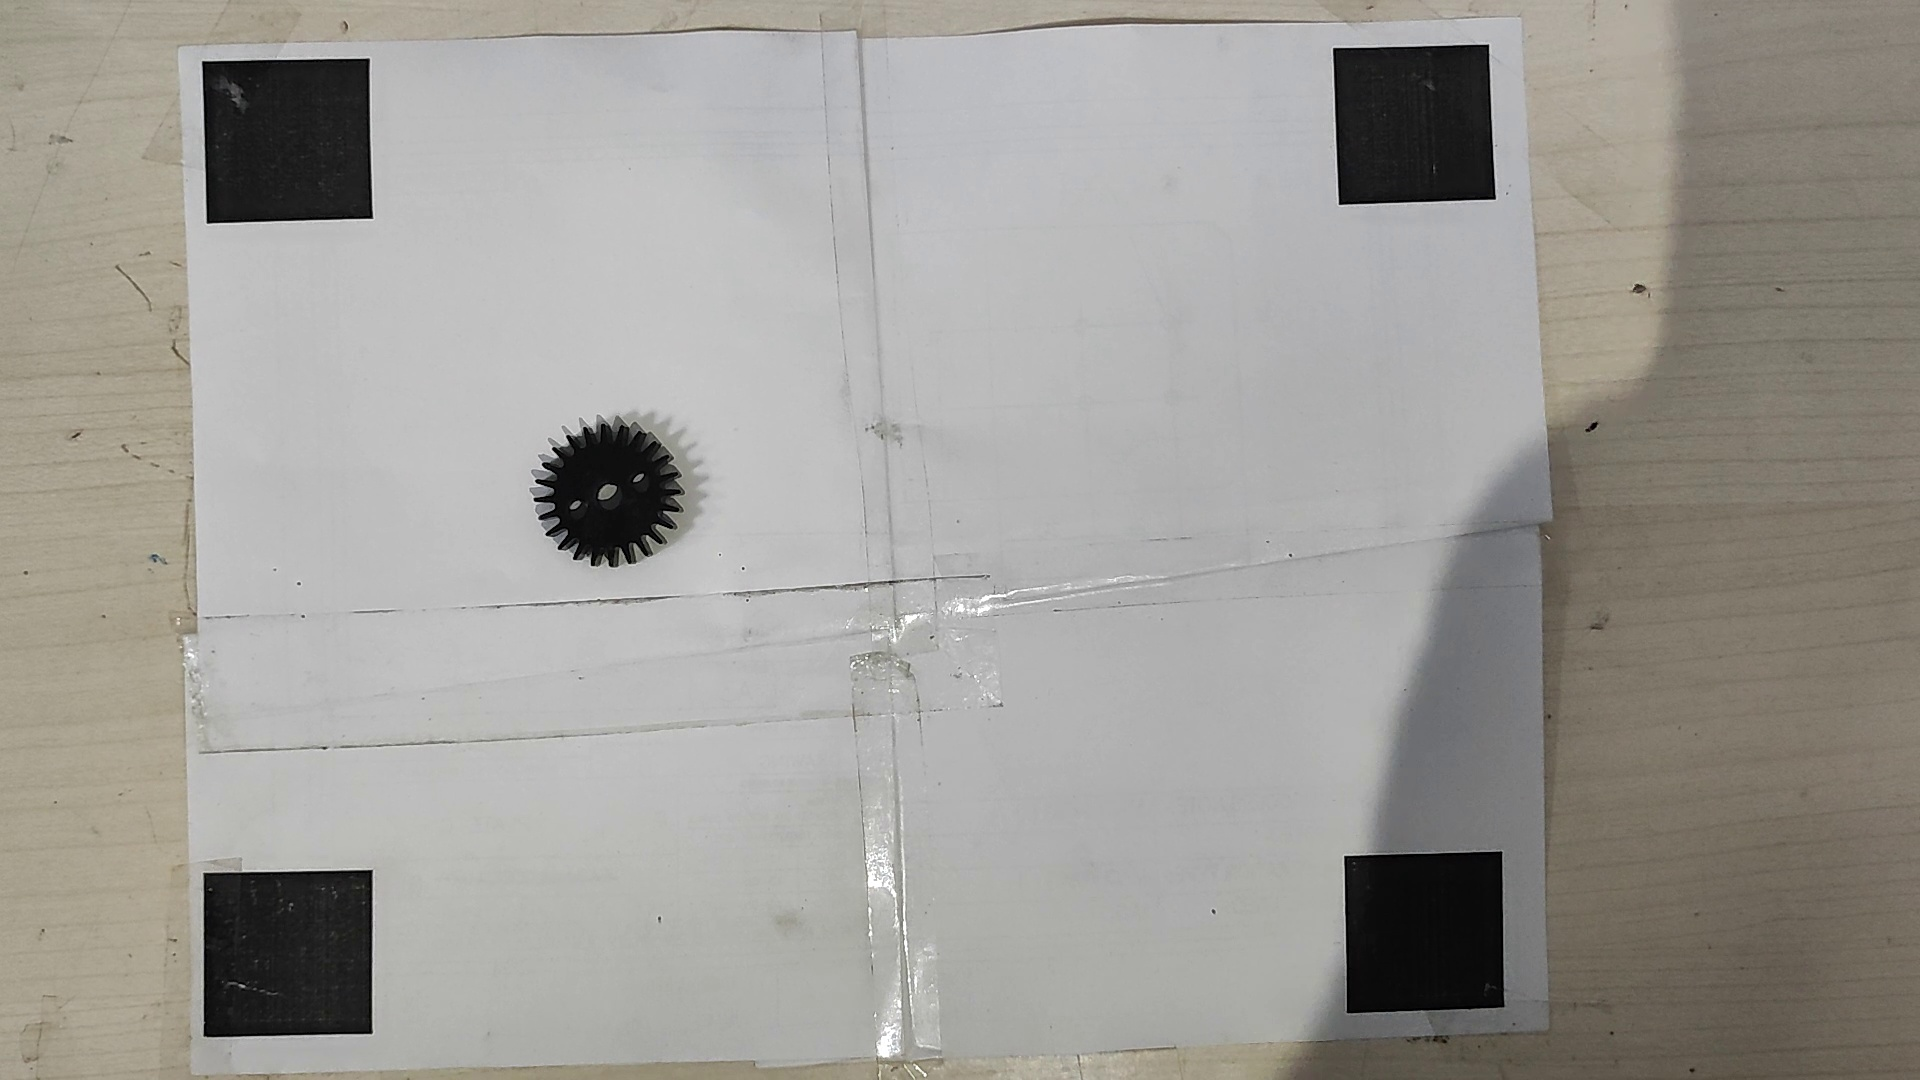Gear: (524, 413, 694, 574)
